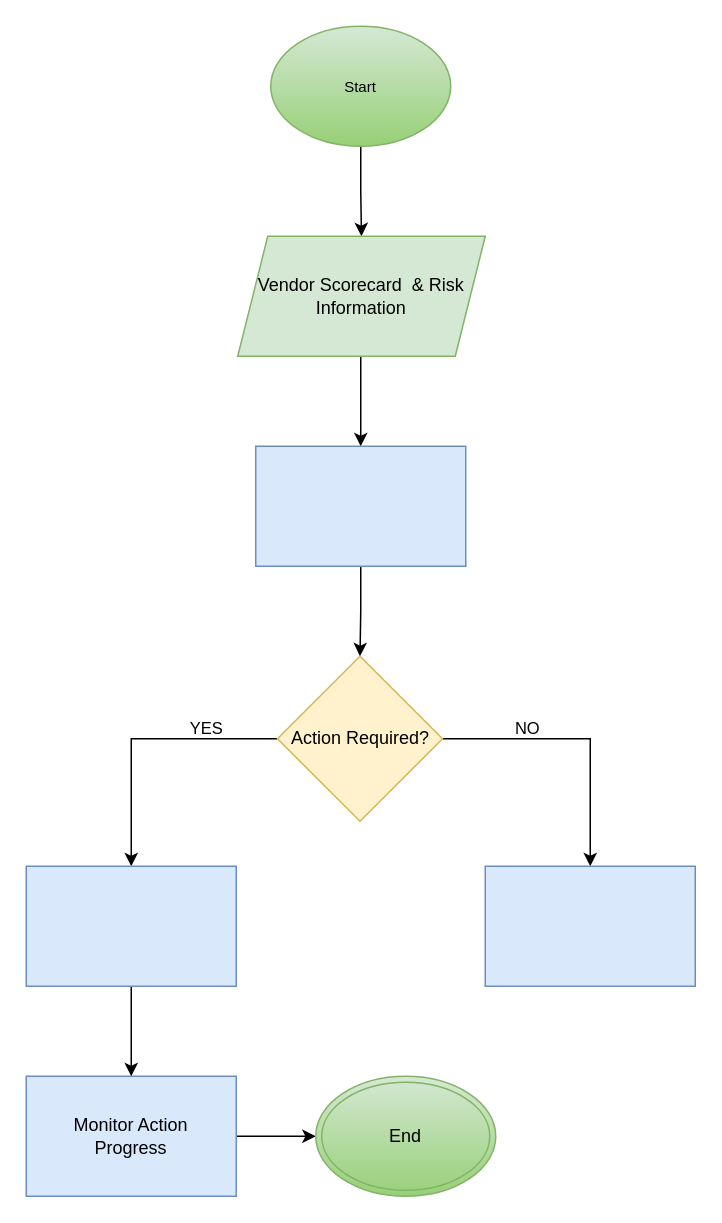
Some shapes in this 722 by 1223 pixel diagram are drawn without their labels. Each missing label, with the centre of its shape:
"Close Review" belongs at point (589, 925).
"Create Corrective Action Plan" belongs at point (130, 925).
"Management Review" belongs at point (360, 505).
